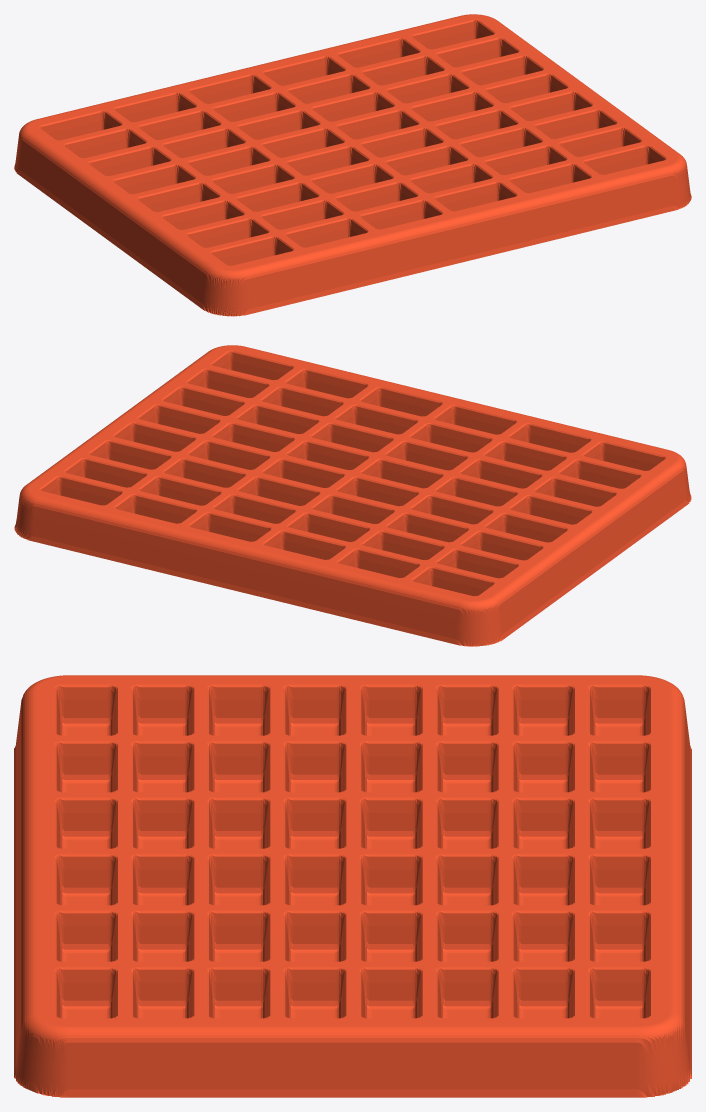
The model's file is mold.glb.
The picture shows the model from 3 angles, top to bottom: view 1: azimuth 30°, elevation 25°; view 2: azimuth 150°, elevation 25°; view 3: azimuth 270°, elevation 25°; orthographic projection. The views are drawn at different scales.
Parts seen in each view (by area): view 1: geometry_0; view 2: geometry_0; view 3: geometry_0.
Part boxes in pixels (x1,y1,x2,y2): geometry_0: (14, 14, 691, 316); geometry_0: (14, 345, 691, 646); geometry_0: (14, 675, 691, 1097).
Bounding box in the file's own units: 0.1443 × 0.0114 × 0.1123.
